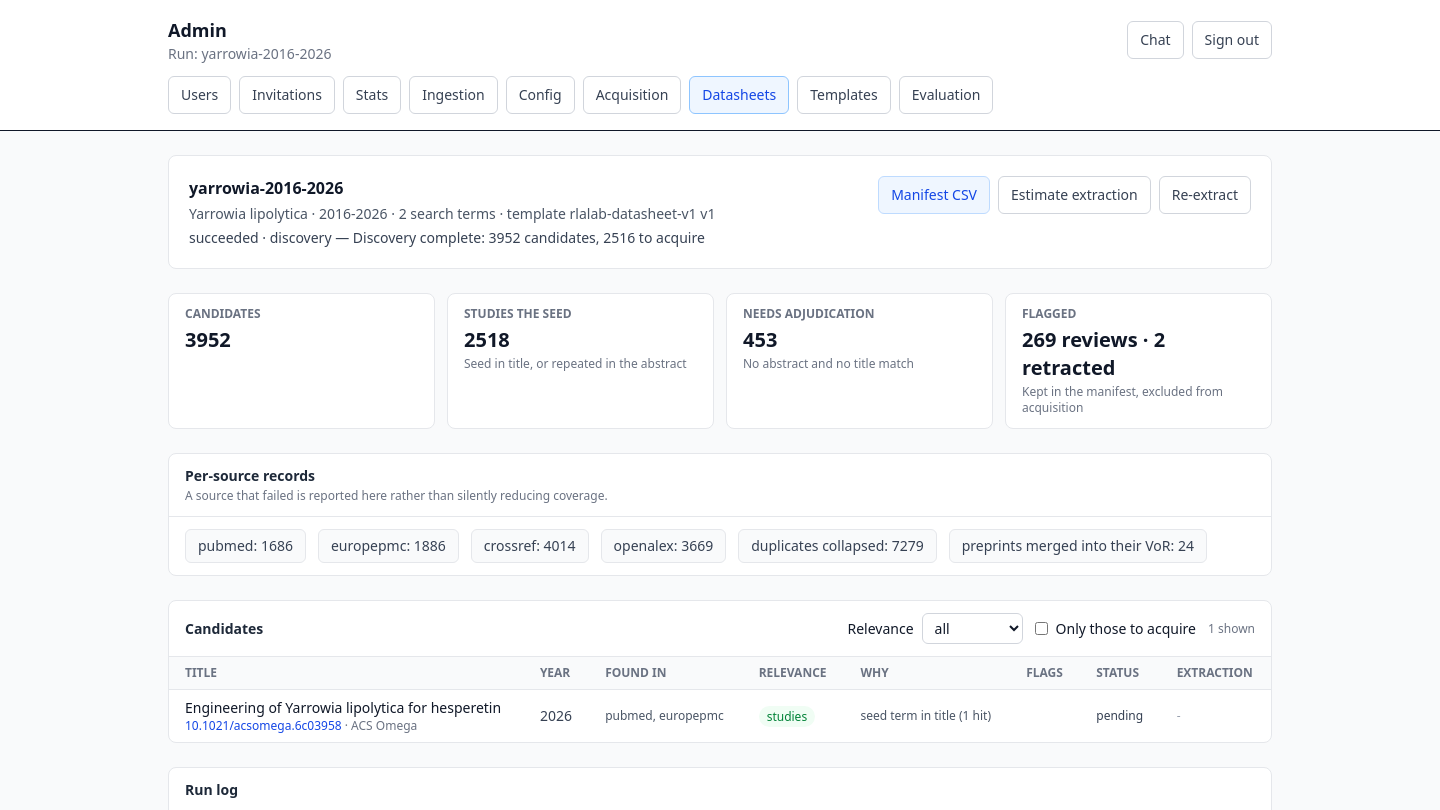
Test: AdminDatasheetRunClient › says why nothing was extracted when extraction is disabled
Click the button "Estimate extraction": {"x": 1074, "y": 195} x1=998 y1=176 x2=1151 y2=214
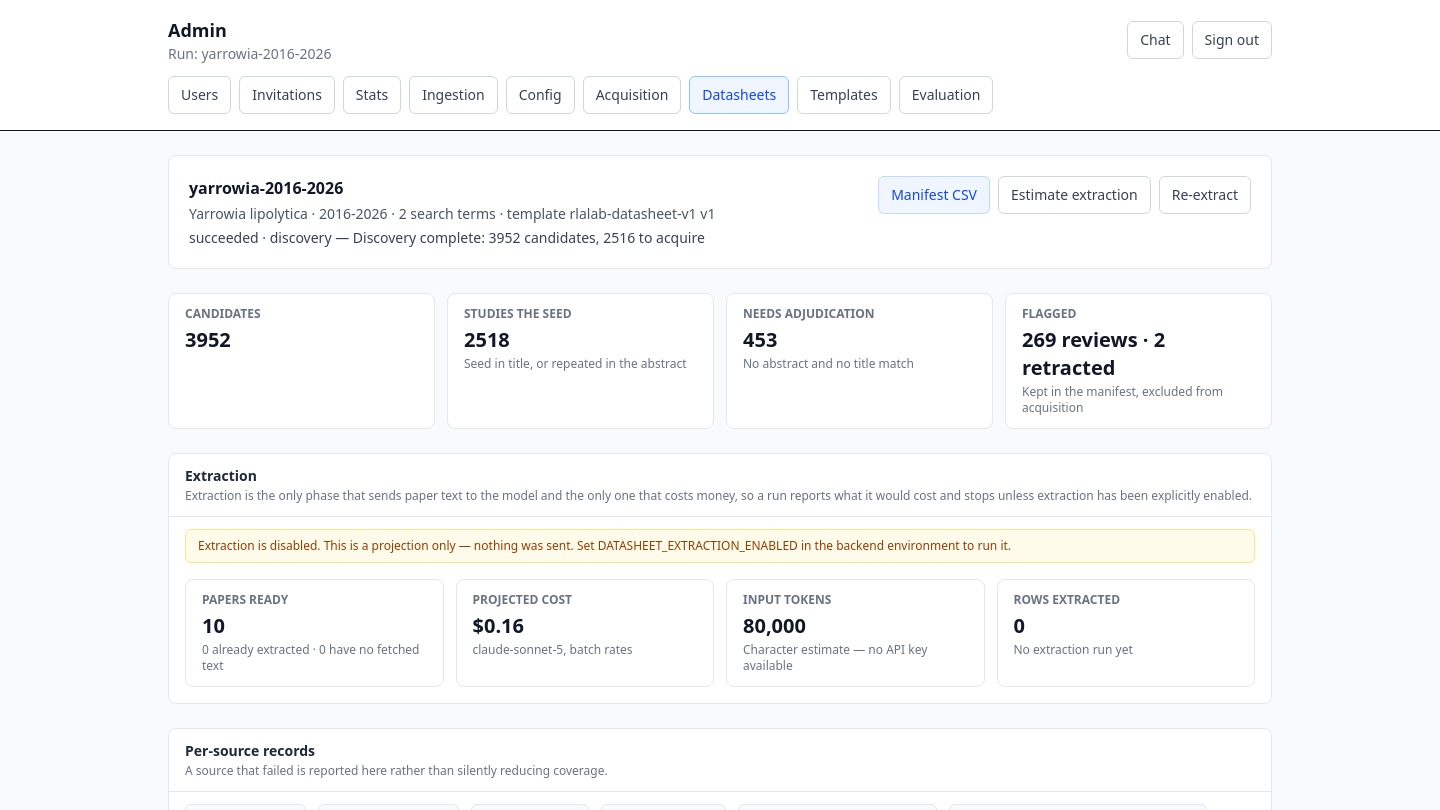
Expected: the text "DATASHEET_EXTRACTION_ENABLED" is shown, x1=198 y1=537 x2=1011 y2=554
Expected: the text "Character estimate — no API key available" is shown, x1=743 y1=641 x2=927 y2=674
